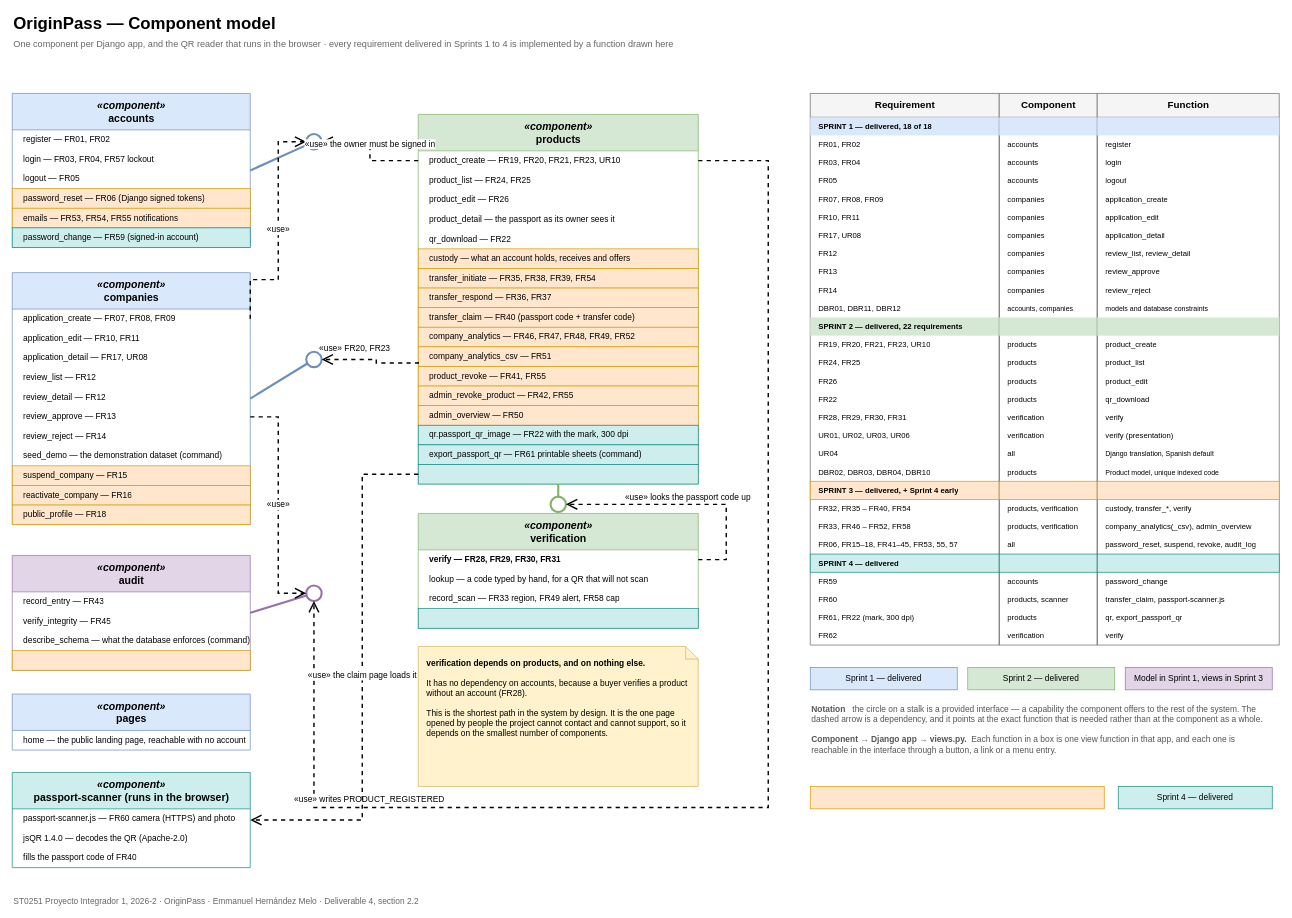
This 1292x918 diagram has some shape labels left out. Here are the shapes that lost their labels. From the top down, the centre of each, then its label:
At [313,141]: "Authentication".
At [313,359]: "CompanyStatus".
At [558,474]: "transfer_claim page — FR60 loads the QR reader".
At [558,504]: "PassportLookup".
At [313,593]: "AuditTrail".
At [558,618]: "verify — FR62 Altered verdict, no product data".
At [131,660]: "audit_log — FR44 filters, FR45 chain check".
At [957,797]: "Sprint 3 — delivered (and Sprint 4 work done early)".
